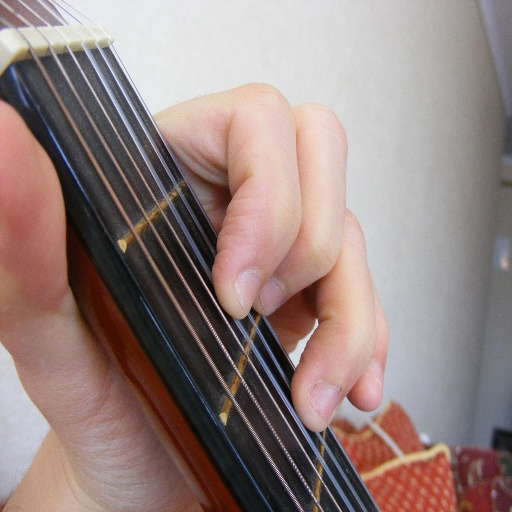hand: (0, 80, 388, 511)
